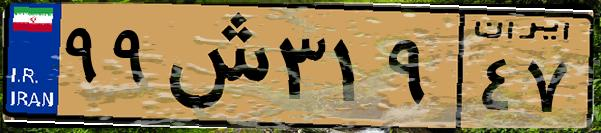1: (330, 28, 385, 110)
3: (270, 28, 330, 110)
4: (475, 38, 525, 113)
7: (525, 38, 570, 115)
9: (385, 28, 445, 110), (57, 26, 110, 100), (110, 28, 158, 98)
ش: (158, 12, 270, 120)
